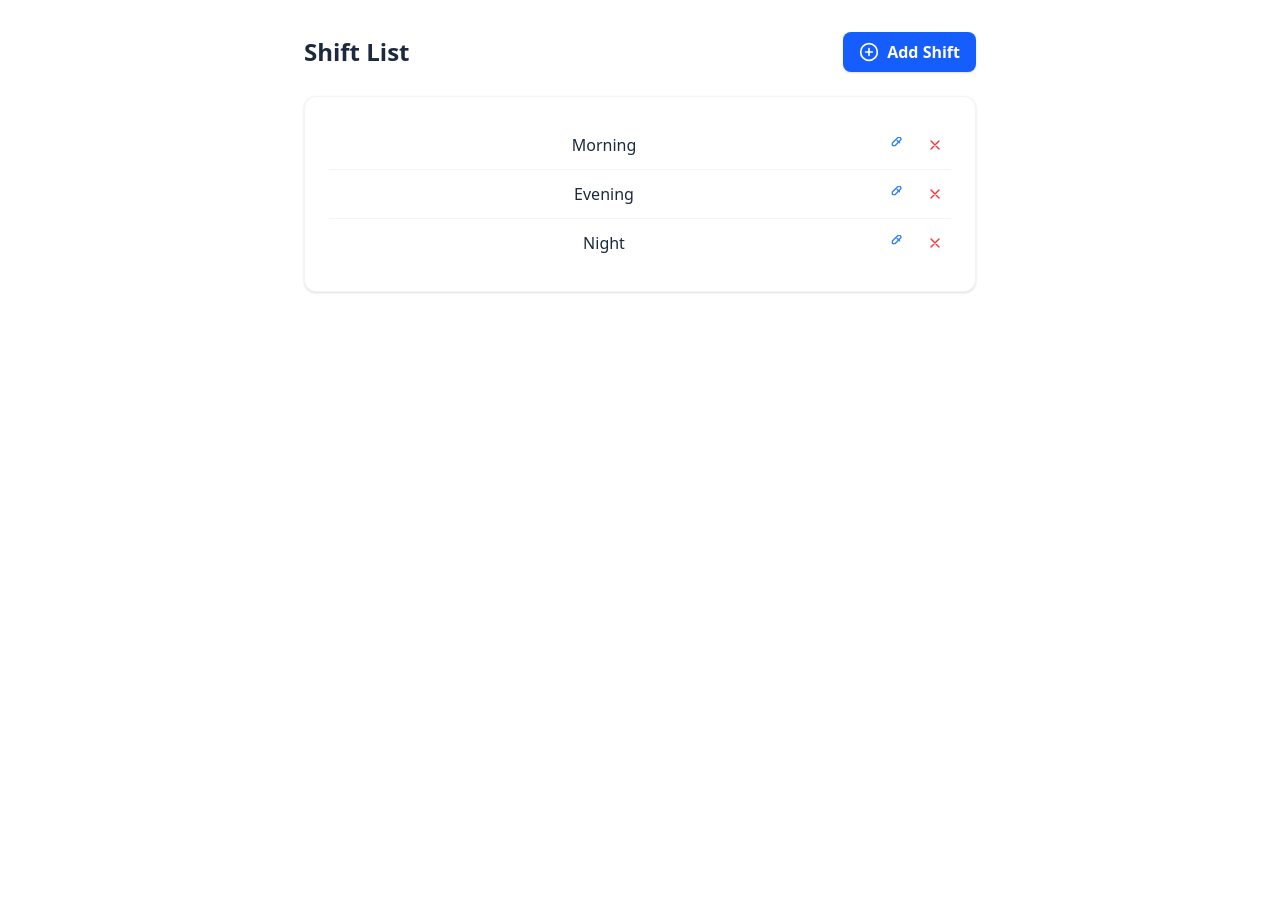
Test: ShiftSelector › should close edit modal when cancel is clicked
The width and height of the screenshot is (1280, 900).
Click the button titled "Edit shift" in the row of "Morning": (895, 145) [879,133,911,157]
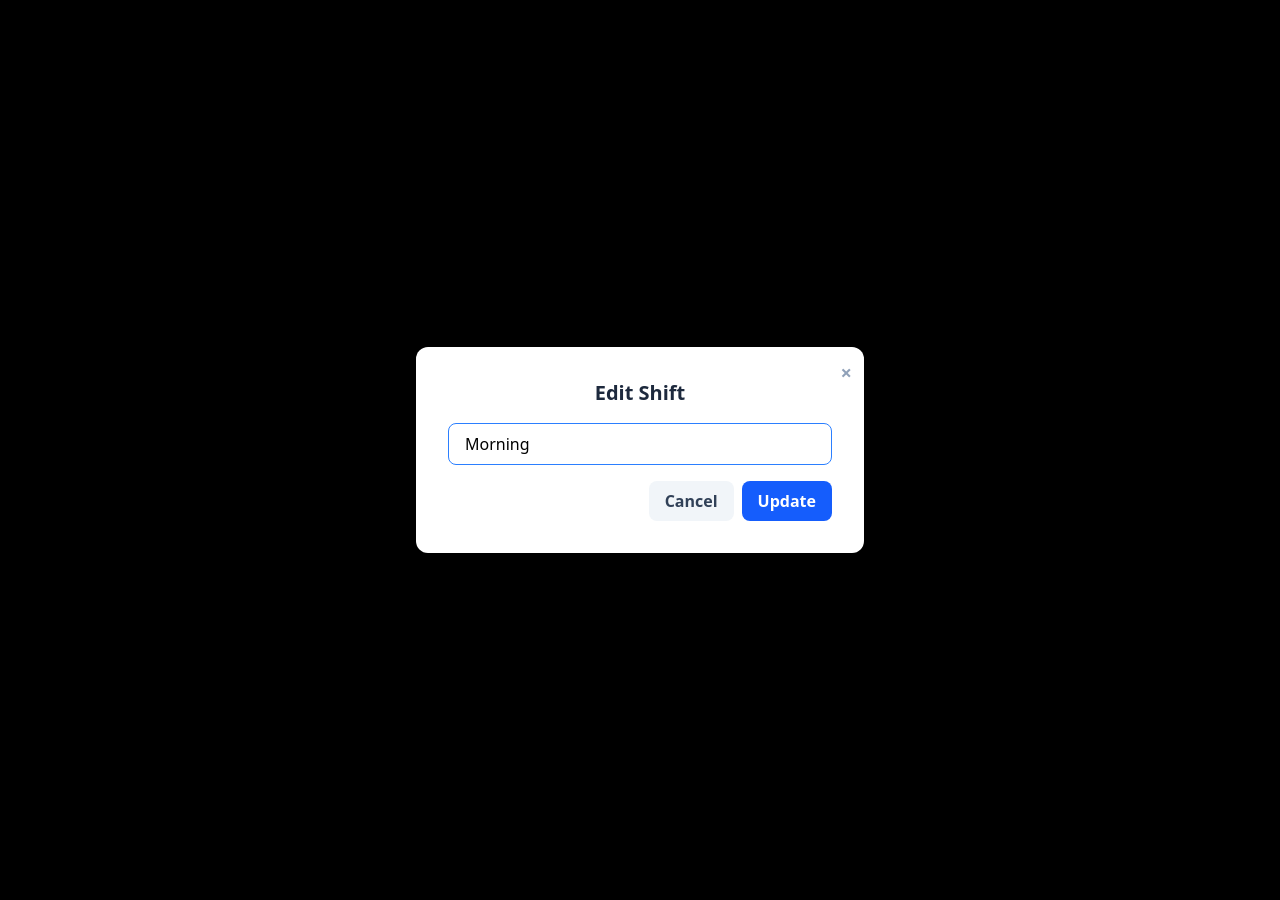
Click the button "Cancel": (691, 501) [649,481,734,521]
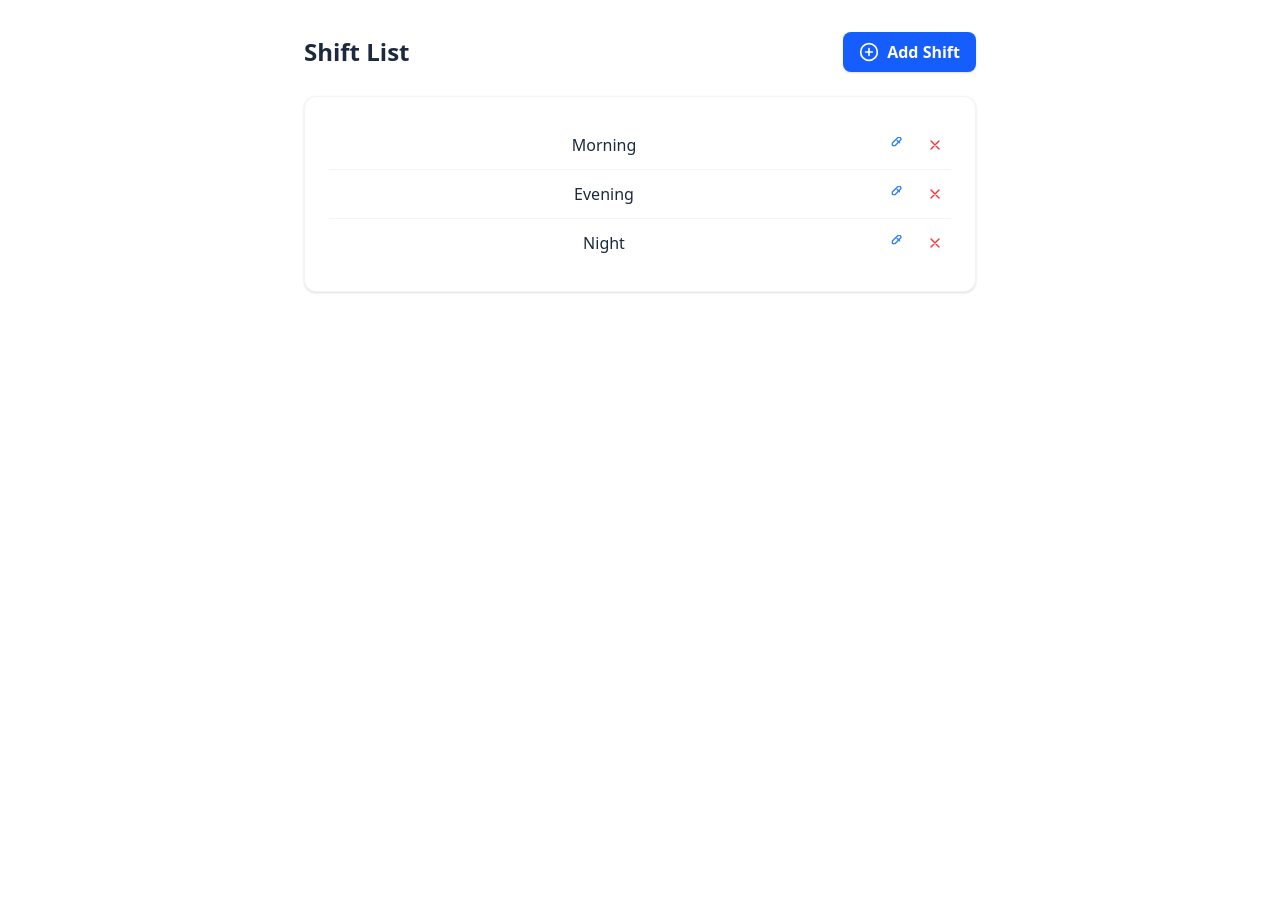
Check: the heading "Edit Shift" is gone
